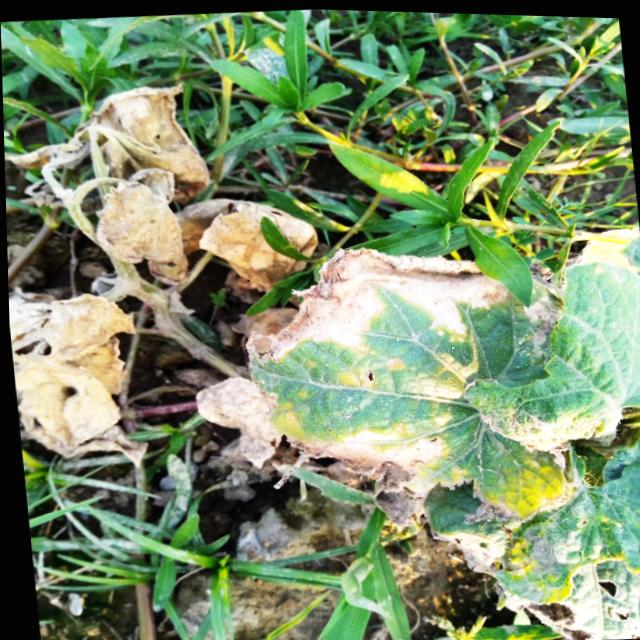Bacterial-Wilt: (7, 286, 148, 474), (4, 79, 210, 204), (92, 164, 187, 284), (193, 370, 283, 463)
